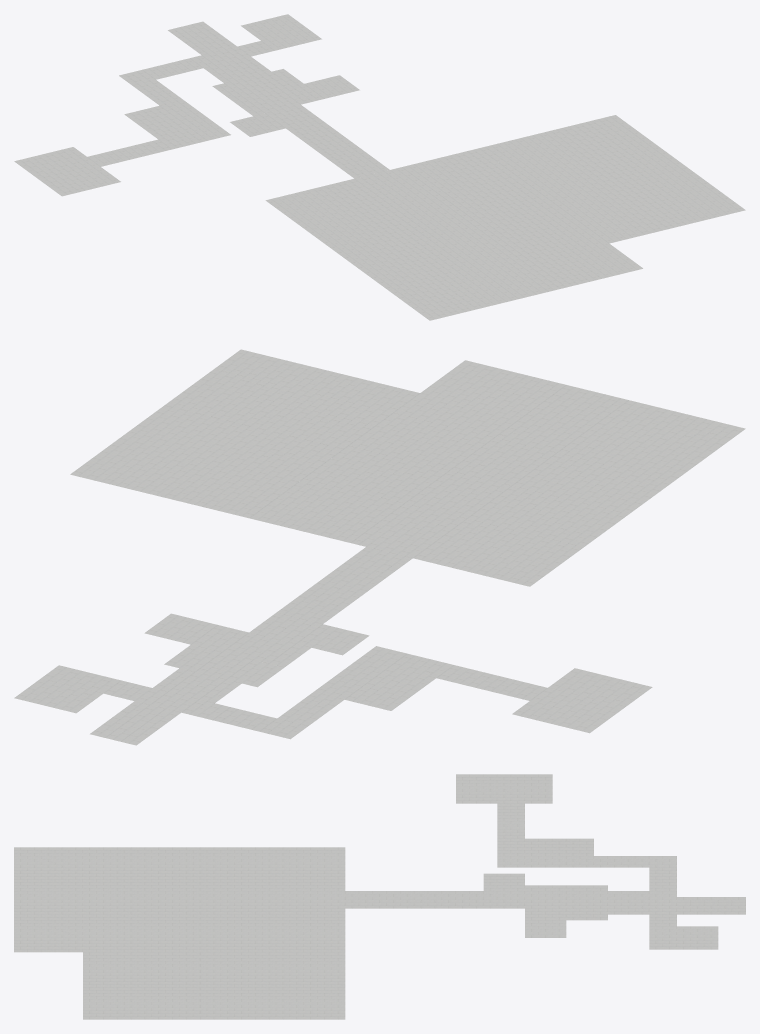
Rendered from fall_00.obj.
3 views of the same model, one above another, from view 1: azimuth 30°, elevation 25°; view 2: azimuth 150°, elevation 25°; view 3: azimuth 270°, elevation 25° (orthographic). The views are drawn at different scales.
Visible parts, largest first — view 1: fall_00; view 2: fall_00; view 3: fall_00.
Boxes of the visible parts, bbox=[...] form: fall_00: bbox=[14, 14, 745, 320]; fall_00: bbox=[14, 349, 745, 745]; fall_00: bbox=[14, 774, 745, 1019].
Bounding box in the file's own units: 42 × 0.0014 × 53.
Materials: 1 (1 with a texture image).
